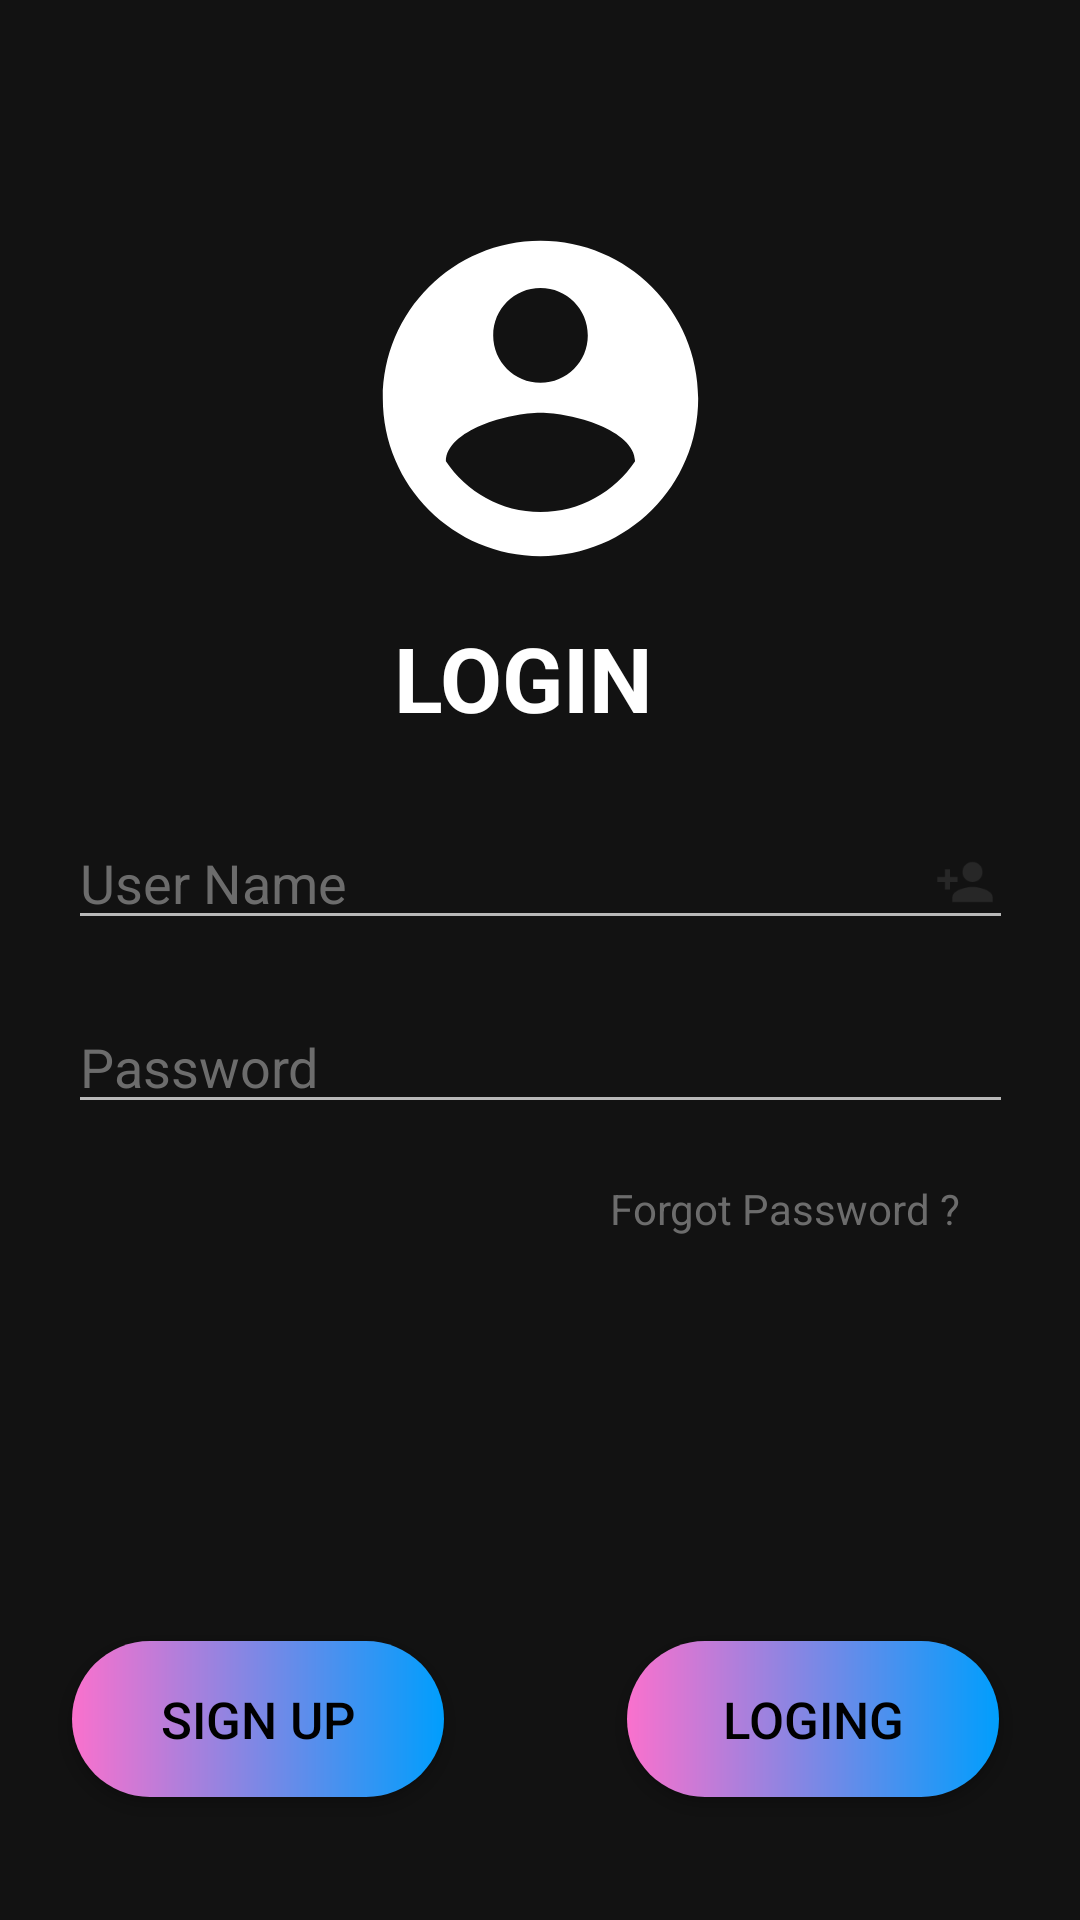

Where to tap for icons on this 1080 x 1920 app screen, as [x,y]:
profile: [540,398]
